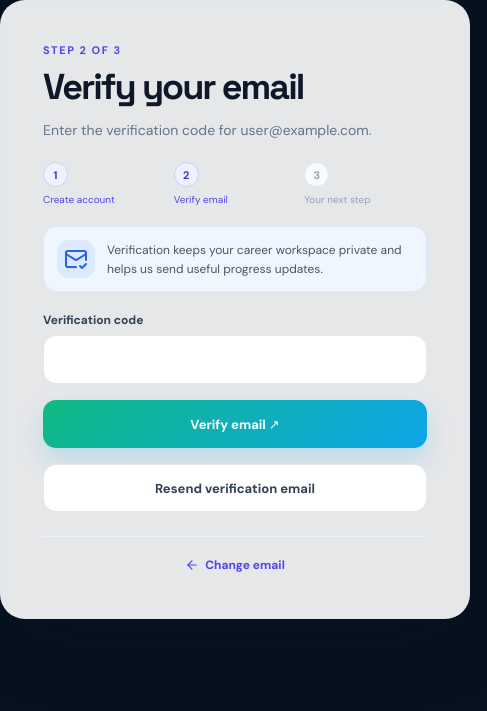
VerifyEmailPage › reports a failed resend and only acknowledges an accepted request conditionally
Click the button "Resend verification email": (235, 488) [43,464,427,512]
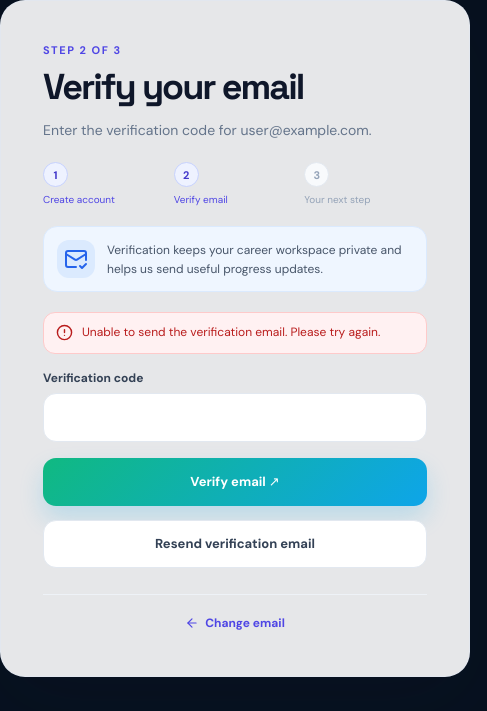
Check: the message reads "Unable to send the verification email. Please try again.", box [82,324,380,340]
Click the button "Resend verification email": (235, 544) [43,520,427,568]
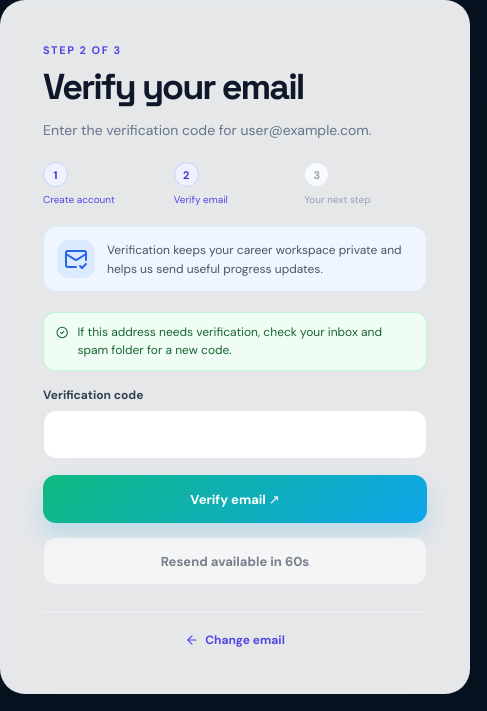
Check: the message shows "If this address needs verification, check your inbox and spam folder for a new code.", box [77,324,382,358]
Check: the button named "resend verification email" is disabled, box [43,537,427,585]
